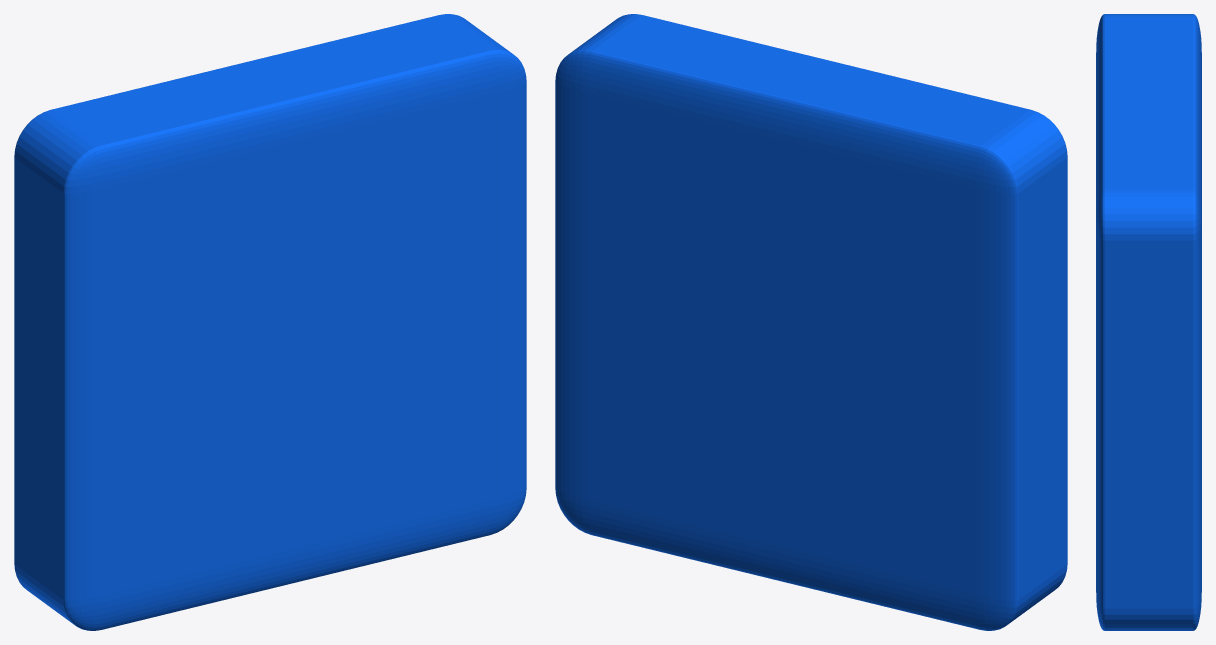
3 renders of one model, left to right at view 1: azimuth 30°, elevation 25°; view 2: azimuth 150°, elevation 25°; view 3: azimuth 270°, elevation 25°, orthographic. The views are drawn at different scales.
Parts seen in each view (by area): view 1: ts; view 2: ts; view 3: ts.
Boxes of the visible parts, <box> form: ts: <box>14,14,526,630</box>; ts: <box>555,14,1067,630</box>; ts: <box>1096,14,1201,630</box>.
Size of the model in its own units: 2 by 2 by 0.437.
